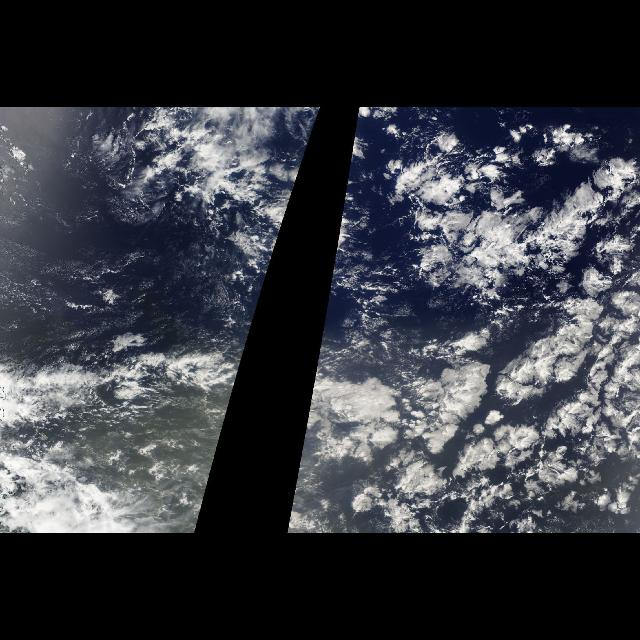Flower: (368, 114, 638, 524)
Sugar: (6, 162, 234, 364)
